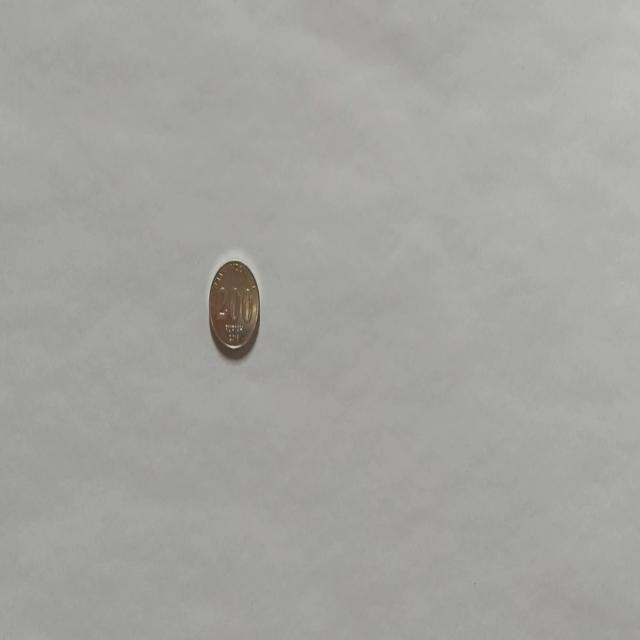dua ratus rupiah: (208, 258, 260, 358)
